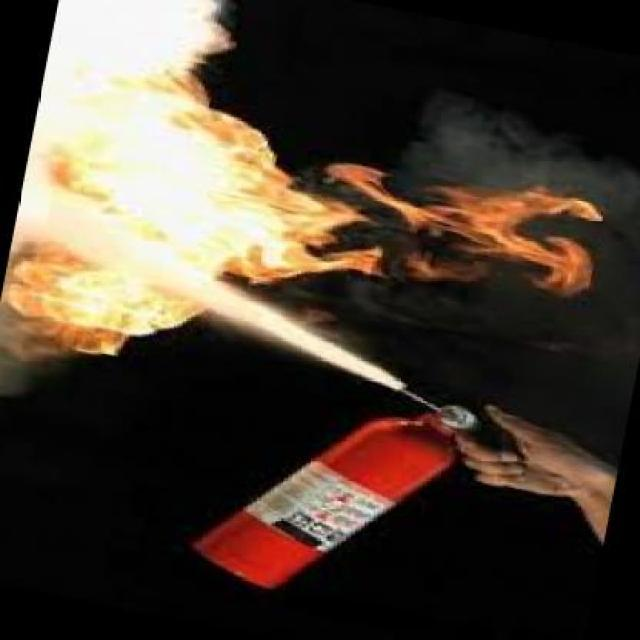Fire: (45, 91, 612, 379)
